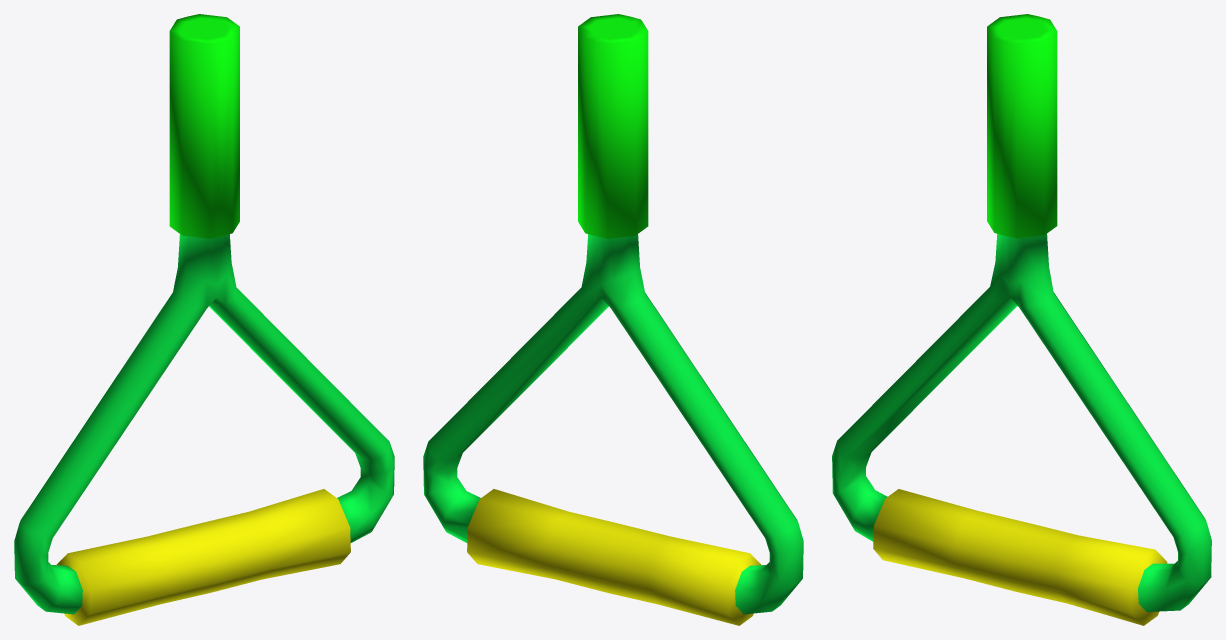
File: taycam.fbx
3 views of the same model, side by side, from view 1: azimuth 30°, elevation 25°; view 2: azimuth 150°, elevation 25°; view 3: azimuth 330°, elevation 25° (orthographic).
Parts seen in each view (by area): view 1: Plane; view 2: Plane; view 3: Plane.
Part boxes in pixels (x1,y1,x2,y2): Plane: (14,14,394,625); Plane: (423,14,803,625); Plane: (832,14,1211,625).
Size of the model in its own units: 39.22 by 56.58 by 6.65.
